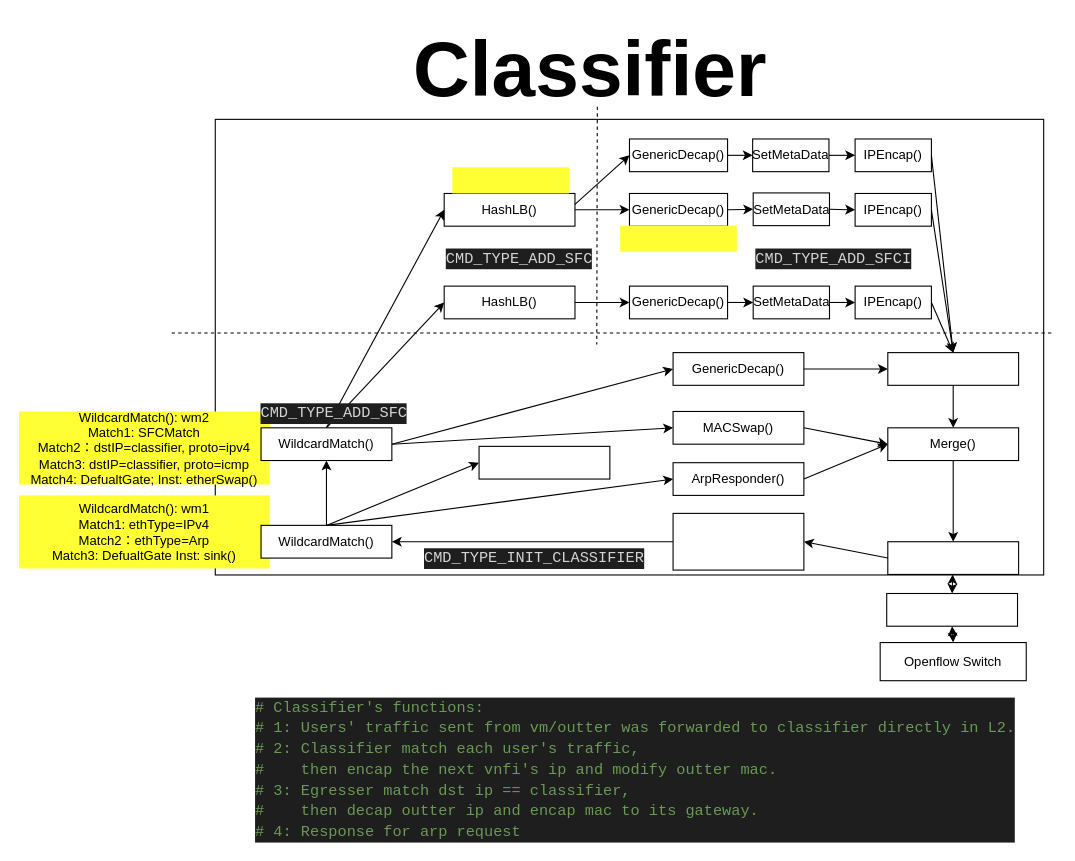
Some shapes in this 1075 by 861 pixel diagram are drawn without their labels. The shapes that lost their labels are listed below. From the top down, each one's centre as x and y in pixels, then its label:
At (x=510, y=180): "sfcUUID_direction".
At (x=678, y=238): "SFCIID_direction".
At (x=953, y=368): "EtherEncap()".
At (x=544, y=462): "Sink()".
At (x=738, y=541): "Setmetadata (original dst mac; original src mac)".
At (x=953, y=557): "PMDPort".
At (x=952, y=609): "NIC".
